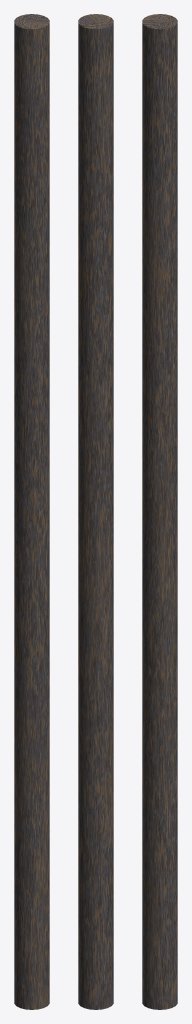
The model's file is goalPole.fbx.
The picture shows the model from 3 angles, left to right: view 1: azimuth 90°, elevation 25°; view 2: azimuth 210°, elevation 25°; view 3: azimuth 270°, elevation 25°; orthographic projection.
Parts seen in each view (by area): view 1: Cylinder001; view 2: Cylinder001; view 3: Cylinder001.
Part boxes in pixels (box(x1,y1,x2,y2)): Cylinder001: box(14, 14, 49, 1009); Cylinder001: box(78, 14, 113, 1009); Cylinder001: box(142, 14, 177, 1009).
Size of the model in its own units: 236 by 7087 by 233.
Materials: 1 (1 with a texture image).
